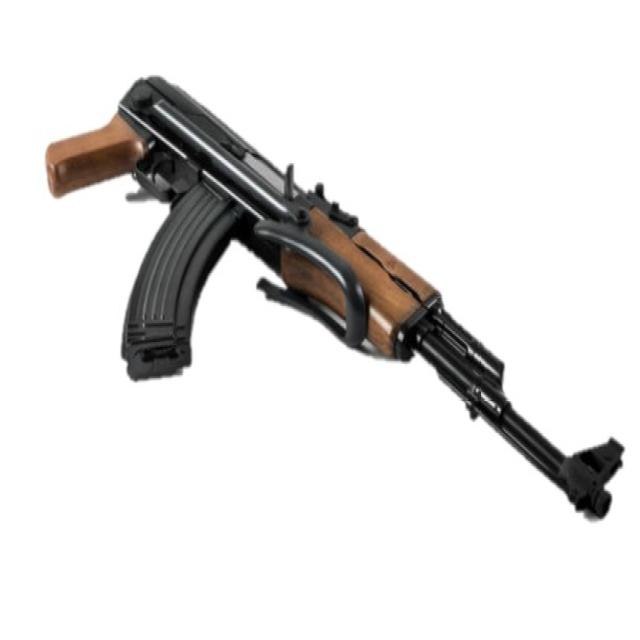rifle: (34, 65, 632, 525)
